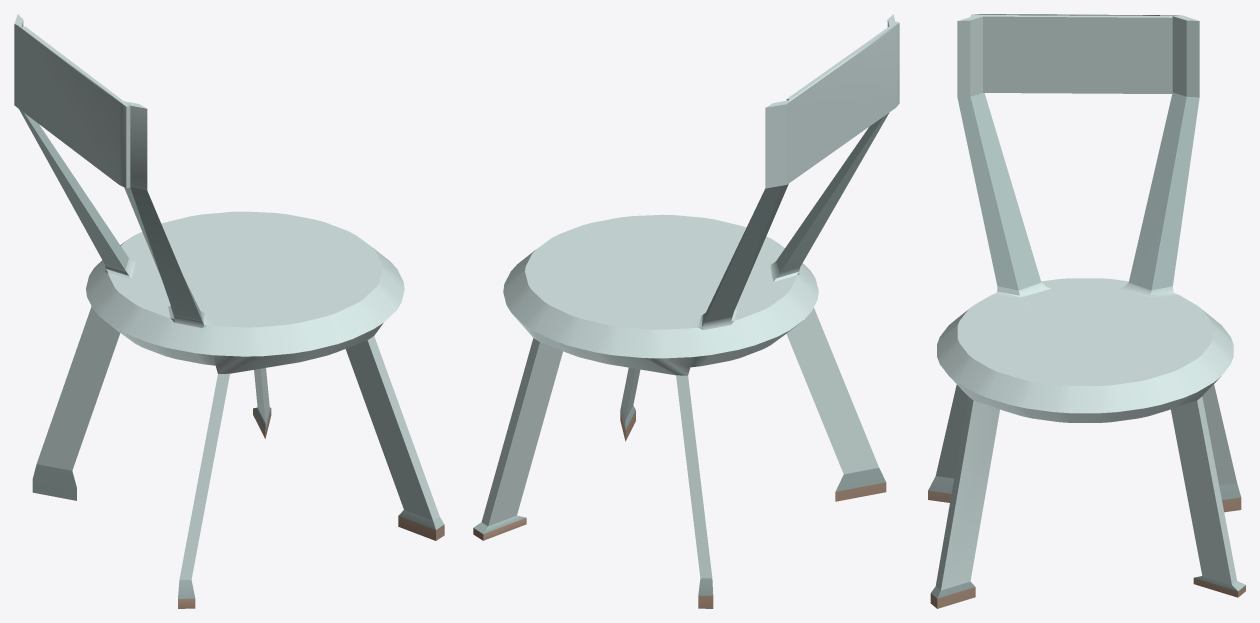
File: counseller Chair.fbx
3 views of the same model, side by side, from view 1: azimuth 30°, elevation 25°; view 2: azimuth 150°, elevation 25°; view 3: azimuth 270°, elevation 25° (orthographic). The views are drawn at different scales.
Visible parts, largest first — view 1: pCylinder1; view 2: pCylinder1; view 3: pCylinder1.
Boxes of the visible parts, x1,y1,x2,y2 form: pCylinder1: [14, 14, 444, 608]; pCylinder1: [473, 14, 899, 608]; pCylinder1: [928, 14, 1245, 608].
Bounding box in the file's own units: 7.85 × 11.77 × 7.24.
